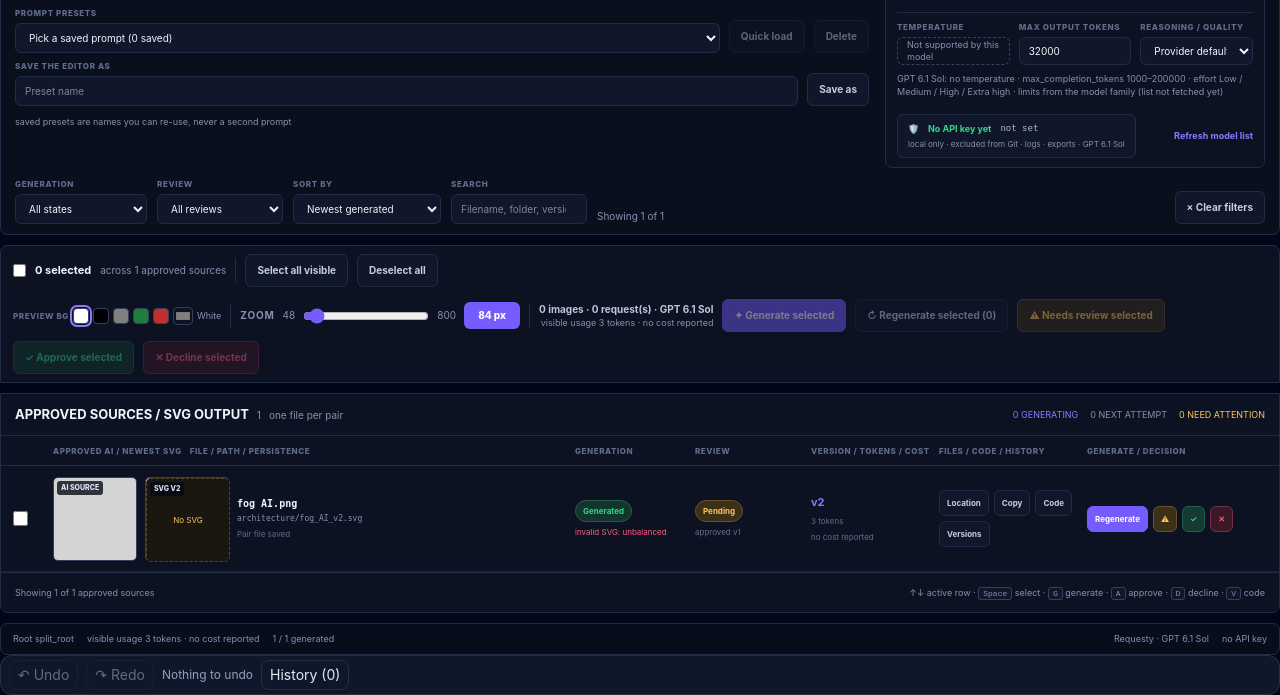
it: the versions popup › lists every recorded version, the newest shown by default, failures as status
(page scrolled)
Click the button "Versions" at (964, 534), box [939,521,990,547]
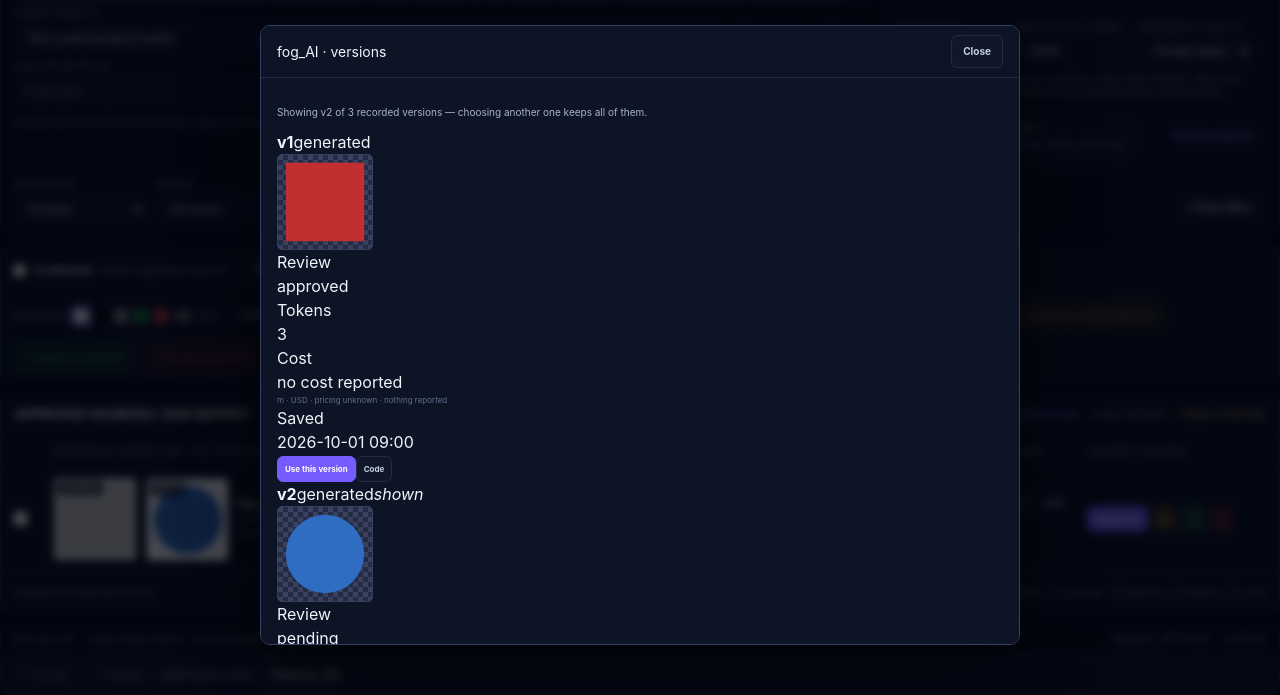
expect the heading with test id "svg-history-title" shows "fog_AI": met, box [277,43,319,60]
expect the button with test id "svg-history-use-1" is enabled: met, box [277,456,356,482]
expect the element with test id "svg-history-cost-1" shows "no cost reported": met, box [277,372,402,392]
